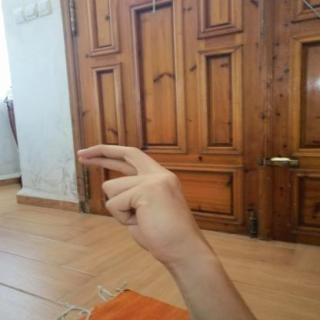ZAY: (67, 141, 221, 271)
